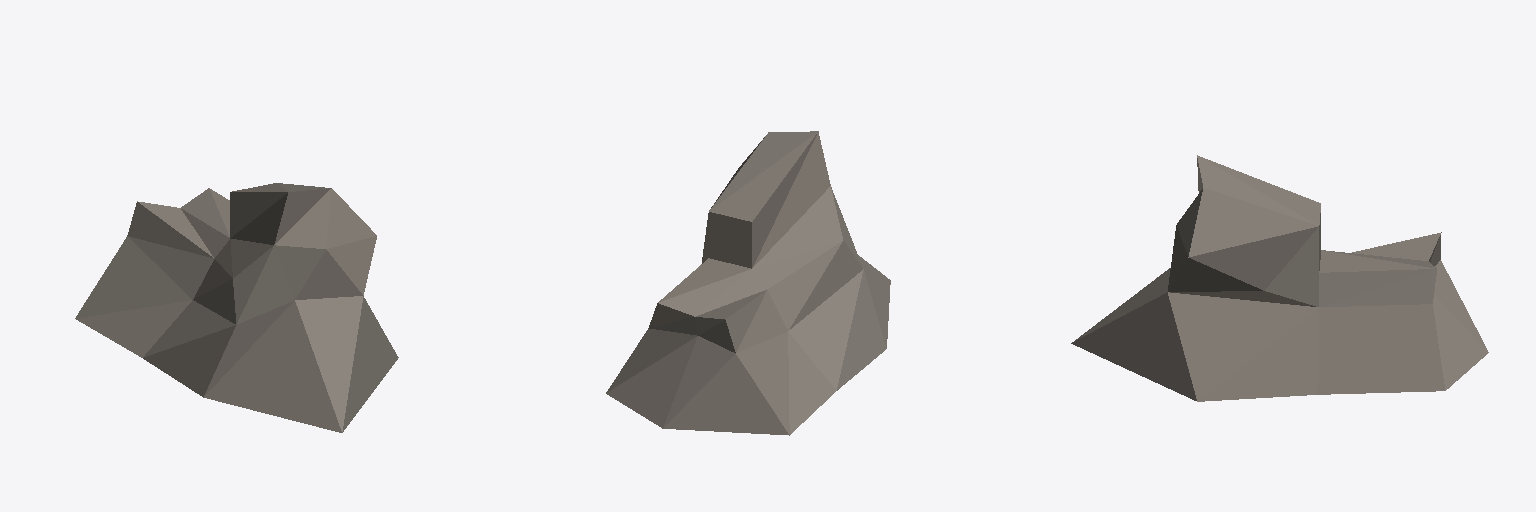
Rendered from LargeStone.obj.
The picture shows the model from 3 angles: view 1: azimuth 30°, elevation 25°; view 2: azimuth 150°, elevation 25°; view 3: azimuth 270°, elevation 25°; orthographic projection.
Visible parts, largest first — view 1: Stone_1; view 2: Stone_1; view 3: Stone_1.
Part boxes in pixels (x1,y1,x2,y2): Stone_1: (75, 183, 398, 432); Stone_1: (606, 131, 890, 435); Stone_1: (1071, 155, 1488, 401).
Bounding box in the file's own units: 0.329 × 0.2988 × 0.5872.